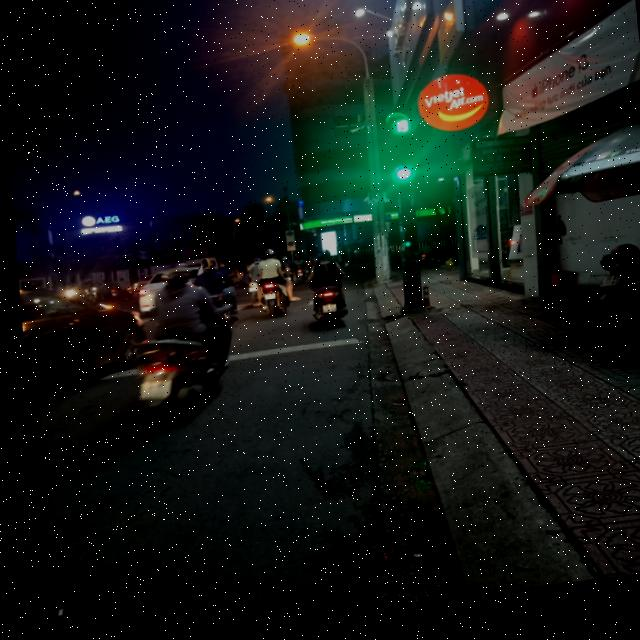Green: (382, 144, 416, 205)
